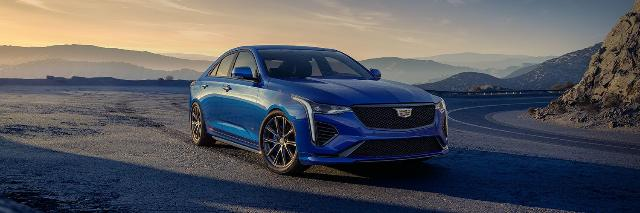cadillac: (189, 45, 449, 176)
